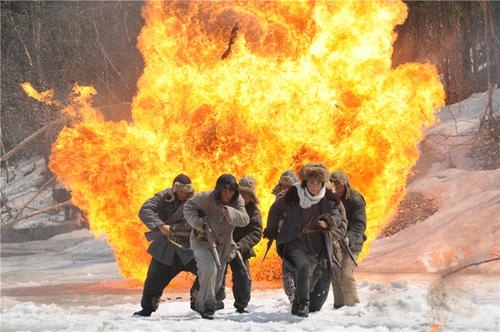fire: (94, 11, 434, 287), (21, 78, 57, 104)
